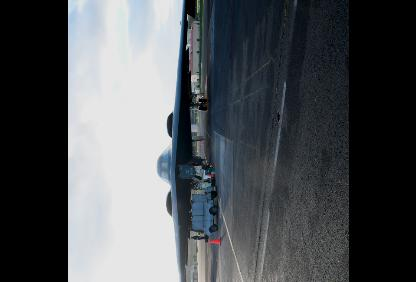B1: (155, 0, 212, 281)
